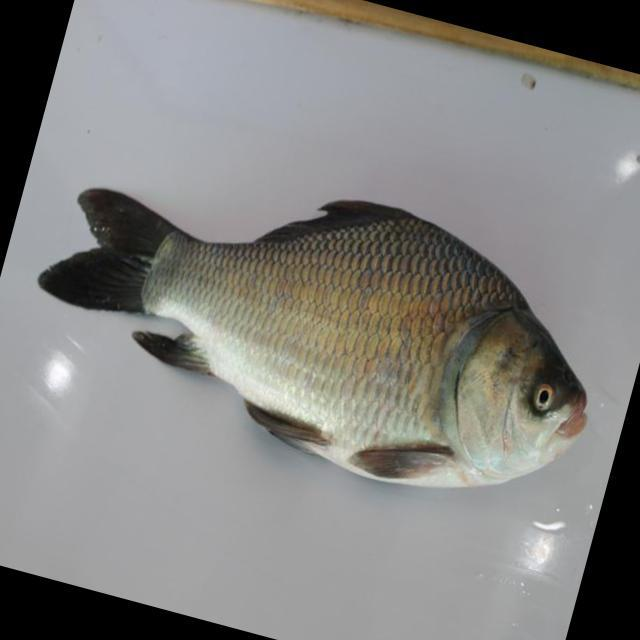Catla: (34, 174, 617, 495)
